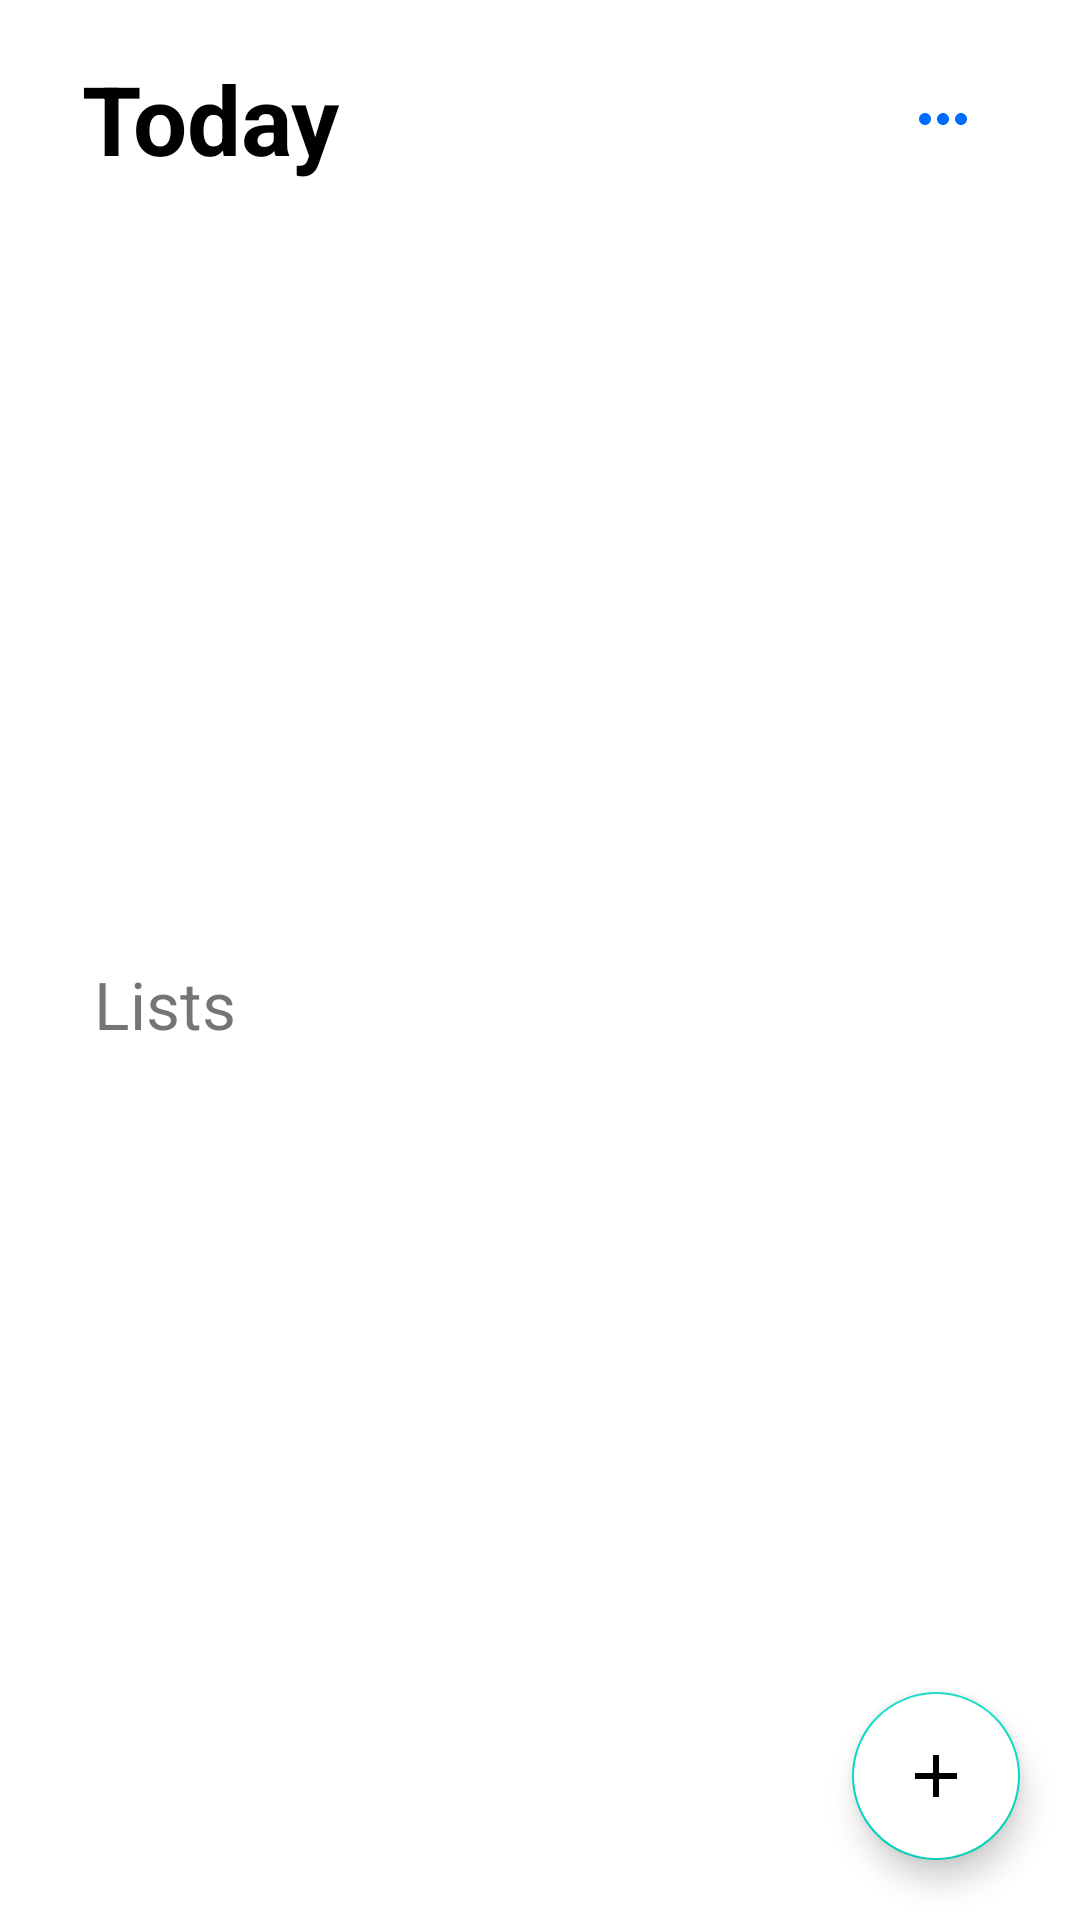

Icon click points for this 1080px x 1920px phone screenshot, format (x=x, y=y):
add: (x=936, y=1776)
more: (x=943, y=119)
